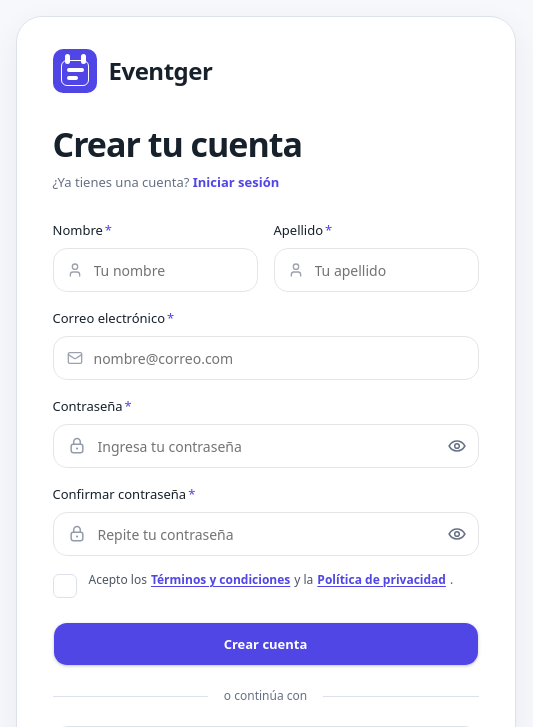
Test: SignUpPage › muestra las reglas de contraseña al comenzar a escribir
Expected: the text "Fuerza de la contraseña:" is not shown
Expected: the text "Mínimo 8 caracteres" is not shown
Type "a" into the password field labelled "Contraseña" at x=266, y=446, box [52,424,478,468]
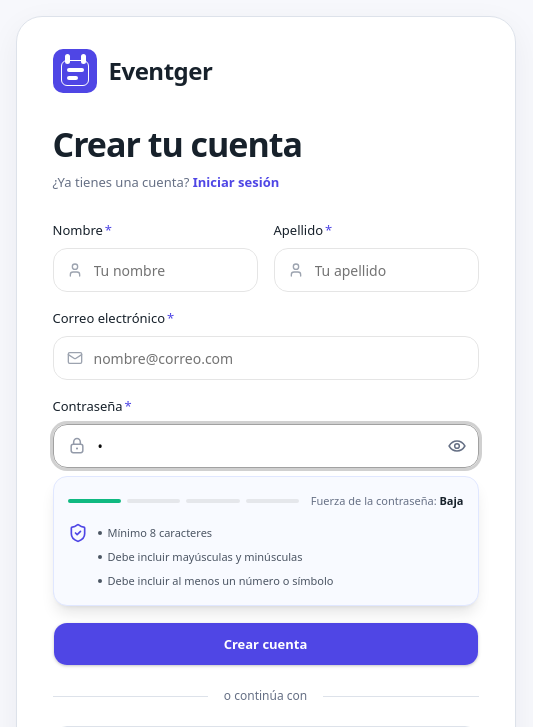
Result: the text "Fuerza de la contraseña: Baja" is shown at [311,491,464,511]
Result: the list item "Mínimo 8 caracteres" is shown at [98,525,212,540]
Click the field labelled "Nombre" at x=155, y=270, box [52,248,258,292]
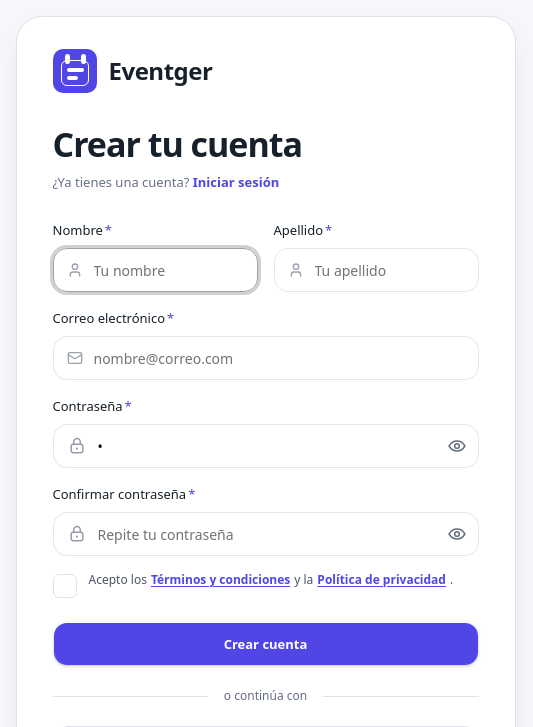
Result: the text "Fuerza de la contraseña:" is gone
